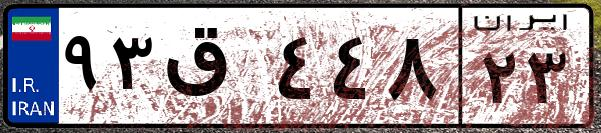2: (475, 38, 525, 113)
3: (525, 38, 570, 115), (110, 28, 158, 98)
4: (270, 28, 330, 110), (330, 28, 385, 110)
8: (385, 28, 445, 110)
9: (57, 26, 110, 100)
ق: (158, 20, 270, 120)
